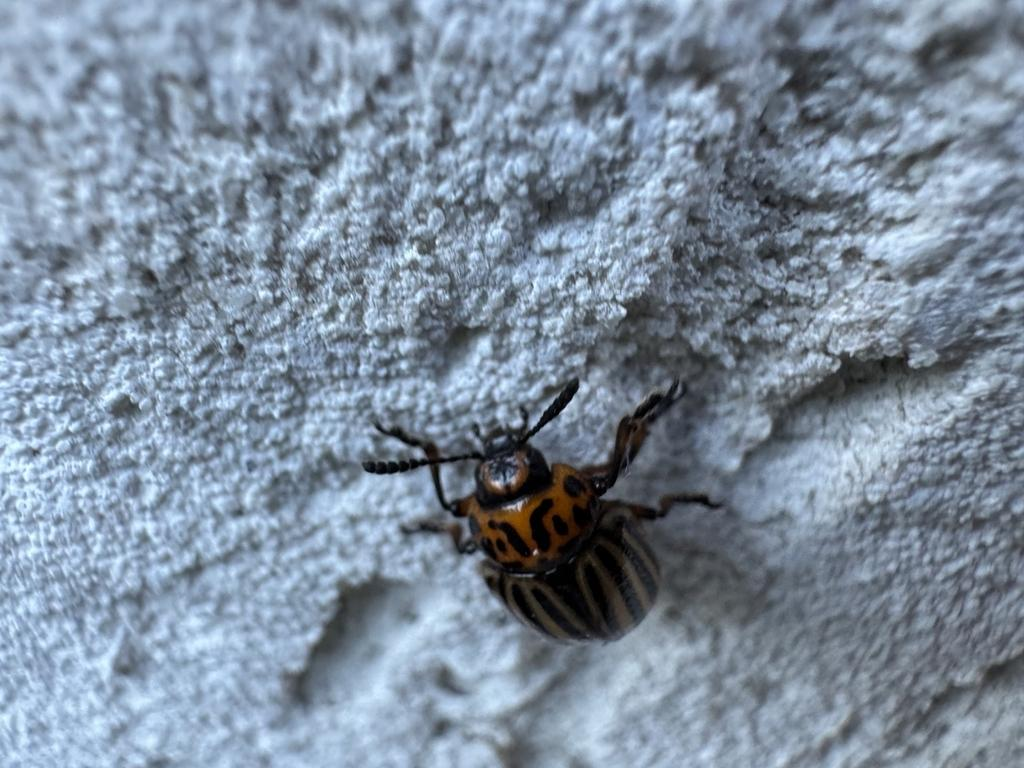potato_beetle: (310, 340, 809, 701)
